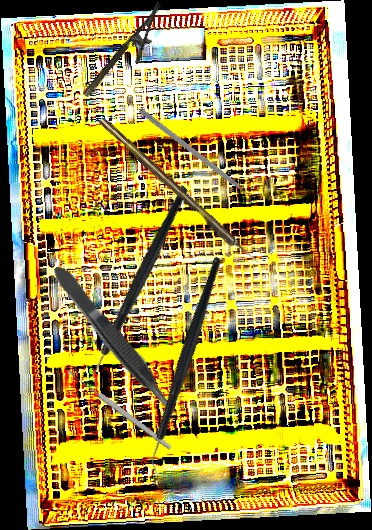Chopper: (85, 255, 290, 482), (34, 184, 247, 394), (133, 107, 259, 210)
Hook Surgical: (97, 115, 261, 269)
Needle Holder: (81, 2, 177, 108)
Surgical Spoon: (65, 367, 174, 452)
Tissue Forceps: (48, 259, 184, 424)
